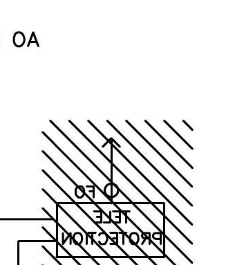tele_protection: (54, 201, 167, 260)
